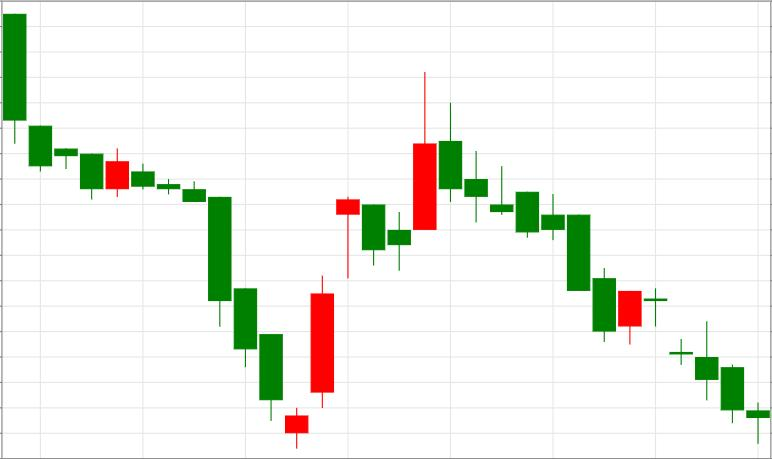morning_star_rise: (132, 163, 333, 449)
